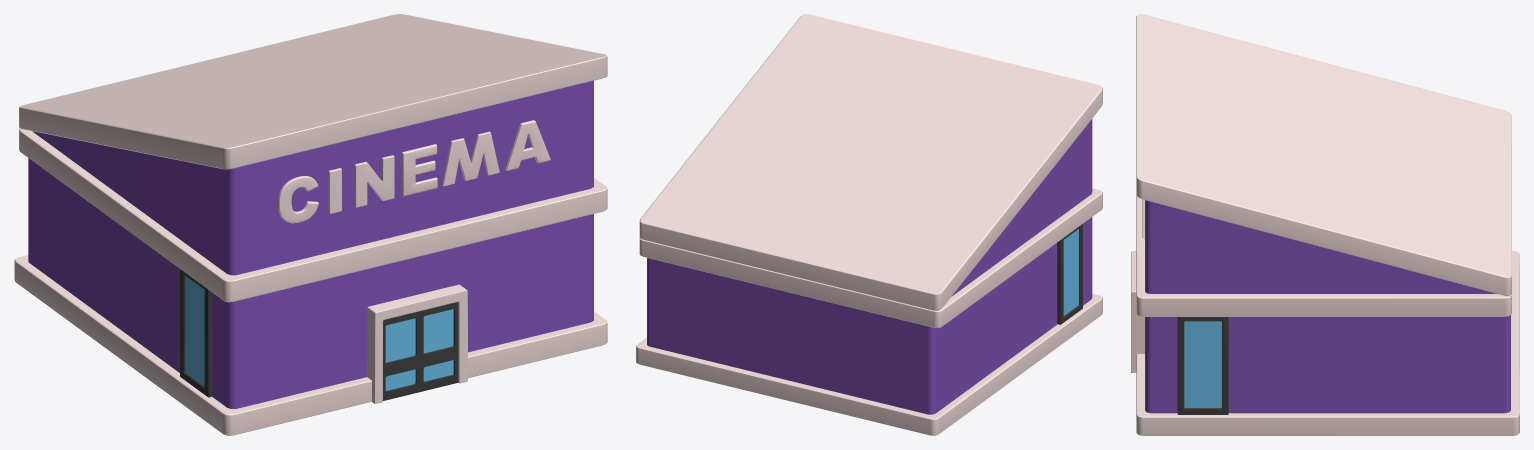
File: Public_4_Cinema_1.glb
3 renders of one model, left to right at view 1: azimuth 30°, elevation 25°; view 2: azimuth 150°, elevation 25°; view 3: azimuth 270°, elevation 25°, orthographic. The views are drawn at different scales.
Visible parts, largest first — view 1: Public_4_Cinema_1; view 2: Public_4_Cinema_1; view 3: Public_4_Cinema_1.
Boxes of the visible parts, x1=… form: Public_4_Cinema_1: x1=14, y1=14, x2=607, y2=435; Public_4_Cinema_1: x1=636, y1=14, x2=1102, y2=435; Public_4_Cinema_1: x1=1131, y1=14, x2=1519, y2=435.
Size of the model in its own units: 12.33 by 8.86 by 12.14.
Materials: 1 (1 with a texture image).
